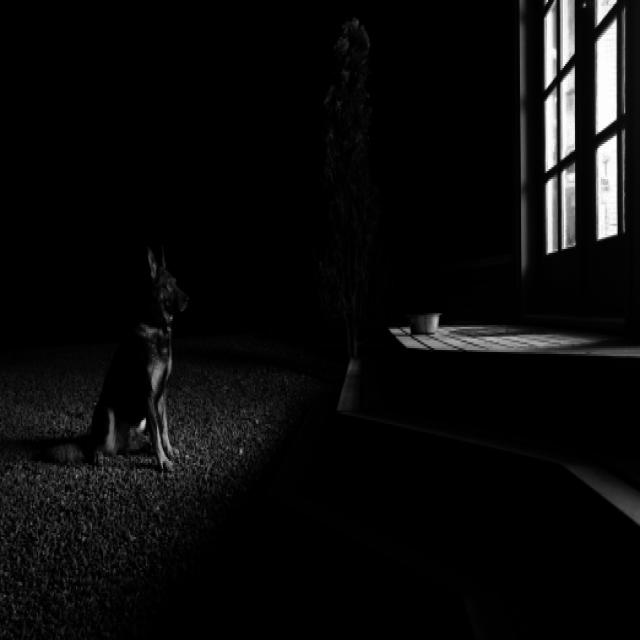Dog: (39, 244, 191, 477)
